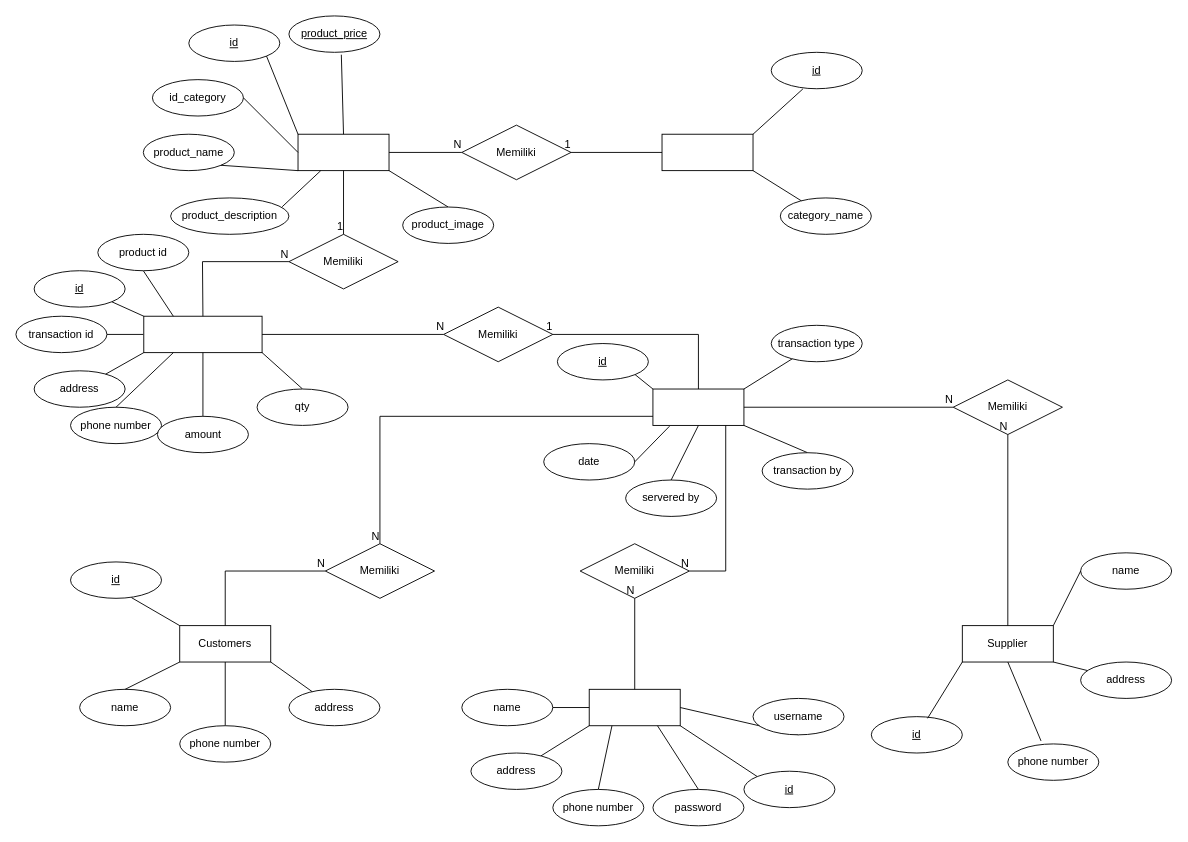
This 1188x842 diagram has some shape labels left out. Each missing label, with the centre of its shape:
"categories" belongs at (707,152).
"Products" belongs at (343,152).
"Transaction" belongs at (698,406).
"Transaction Detail" belongs at (202,334).
"Users" belongs at (634,707).
